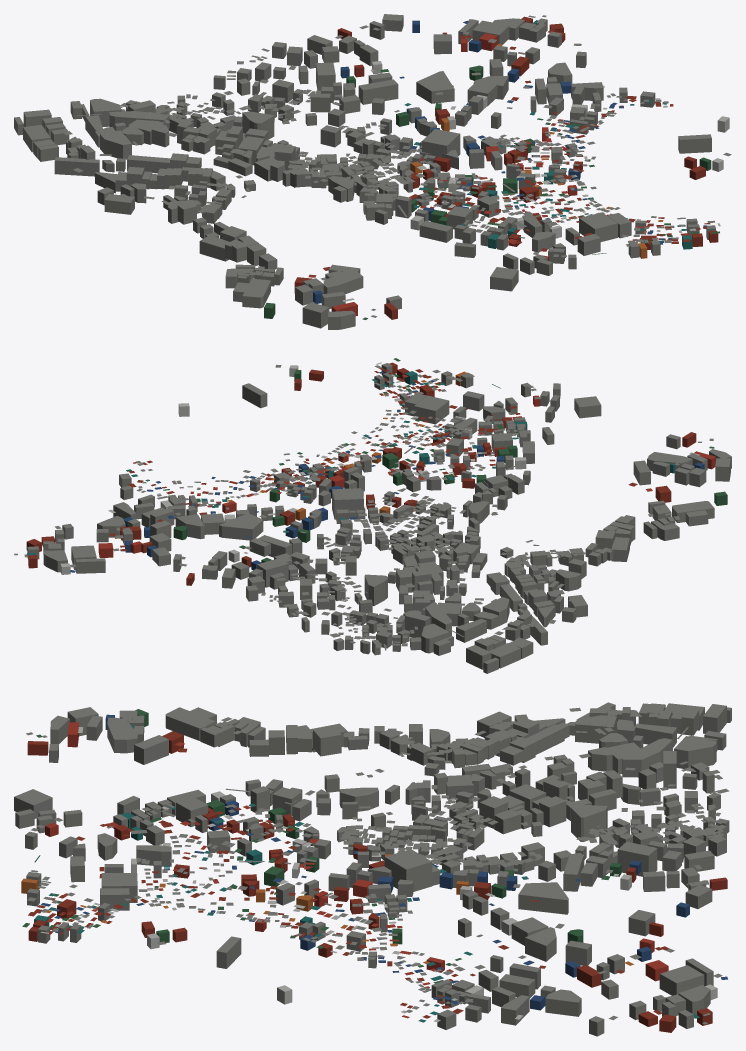
The model's file is far-15-27361-14869.f72c6735.glb.
3 views of the same model, one above another, from view 1: azimuth 30°, elevation 25°; view 2: azimuth 150°, elevation 25°; view 3: azimuth 270°, elevation 25° (orthographic). The views are drawn at different scales.
Bounding box in the file's own units: 1203 × 126 × 1196.
